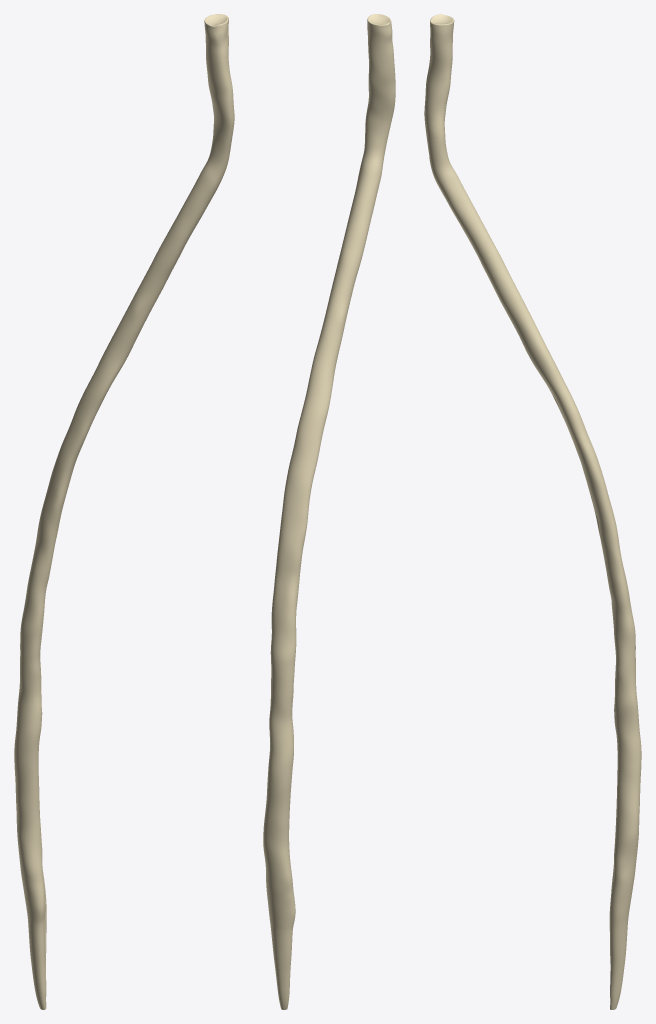
The model's file is spinal-cord.glb.
The picture shows the model from 3 angles, left to right: view 1: azimuth 90°, elevation 25°; view 2: azimuth 150°, elevation 25°; view 3: azimuth 270°, elevation 25°; orthographic projection. The views are drawn at different scales.
Parts seen in each view (by area): view 1: spinal-cord; view 2: spinal-cord; view 3: spinal-cord.
Part boxes in pixels (box(x1,y1,x2,y2)): spinal-cord: box(14, 14, 234, 1009); spinal-cord: box(263, 14, 395, 1009); spinal-cord: box(424, 14, 641, 1009).
Bounding box in the file's own units: 0.0179 × 0.4088 × 0.0819.
